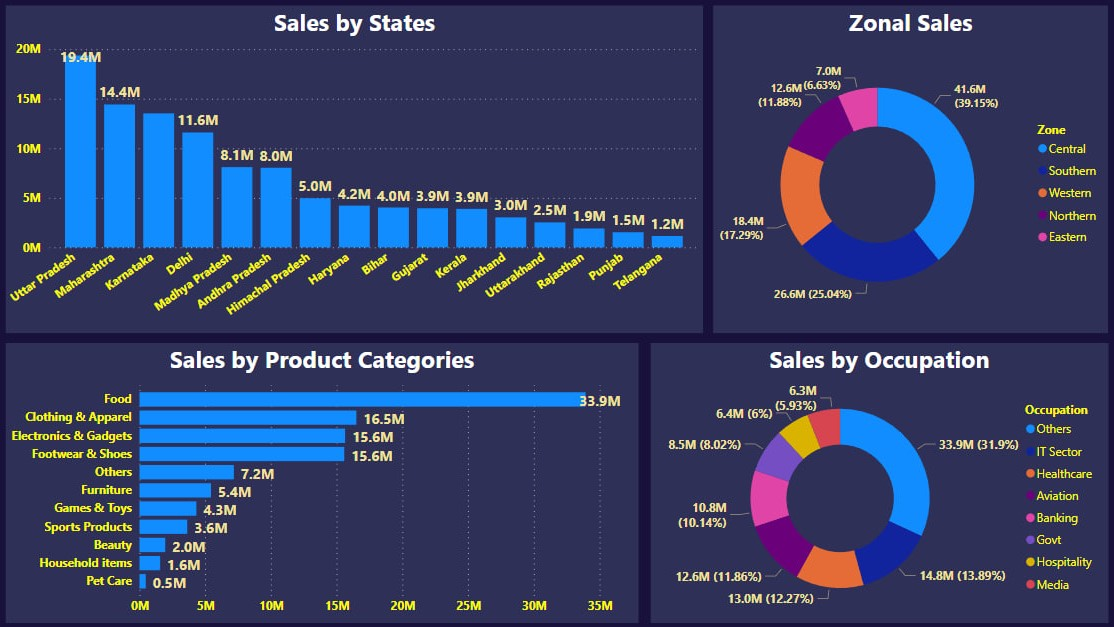

This screenshot's page, from the dashboard's own definition file:
{"tool":"powerbi","page":{"name":"Page 2","canvas":[1280,720],"ordinal":1},"visuals":[{"type":"columnChart","title":"Sales by States","fields":{"Category":["analysed_diwali_sales.State"],"Y":["Sum(analysed_diwali_sales.Amount)"]},"box":[10,8.6,797.1,374.3],"z":0},{"type":"clusteredBarChart","title":"Sales by Product Categories","fields":{"Y":["Sum(analysed_diwali_sales.Amount)"],"Category":["analysed_diwali_sales.Product_Category"]},"box":[10,394.3,722.9,320],"z":1},{"type":"donutChart","title":"Sales by Occupation","fields":{"Category":["analysed_diwali_sales.Occupation"],"Y":["Sum(analysed_diwali_sales.Amount)"]},"box":[747.1,394.3,522.9,320],"z":2},{"type":"donutChart","title":"Zonal Sales","fields":{"Y":["Sum(analysed_diwali_sales.Amount)"],"Category":["analysed_diwali_sales.Zone"]},"box":[818.6,8.6,451.4,374.3],"z":3}]}

Visuals, with their boxes in screenshot pixels (x1, y1, x2, y2), scaled from the page's 1280x720 canvas onto the 1114x627 screenshot:
"Sales by States" columnChart: 9,7,702,333
"Sales by Product Categories" clusteredBarChart: 9,343,638,622
"Sales by Occupation" donutChart: 650,343,1105,622
"Zonal Sales" donutChart: 712,7,1105,333
